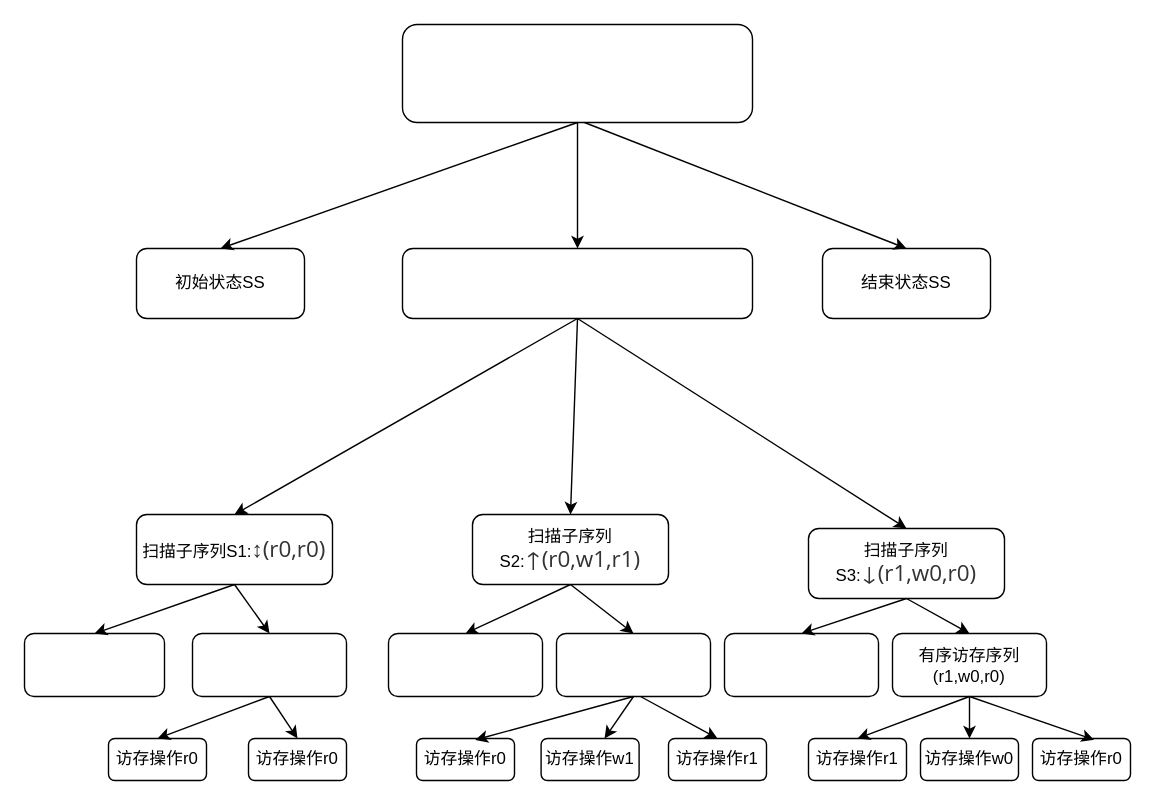
Some shapes in this 1155 by 805 pixel diagram are drawn without their labels. Each missing label, with the centre of its shape:
地址改变方向 ↑: (x=464, y=664)
地址改变方向 ↓: (x=800, y=664)
地址改变方向 ↕: (x=93, y=664)
扫描序列P ↕(r0,r0)↑(r0,w1,r1)↓(r1,w0，r0): (x=576, y=282)
有序访存序列(r0,r0): (x=268, y=664)
有序访存序列(r0,w1,r1): (x=632, y=664)
检测序列DSD:<SS/P/ES> <0/↕(r0,r0)↑(r0,w1,r1)↓(r1,w0，r0)/0>: (x=576, y=72)
